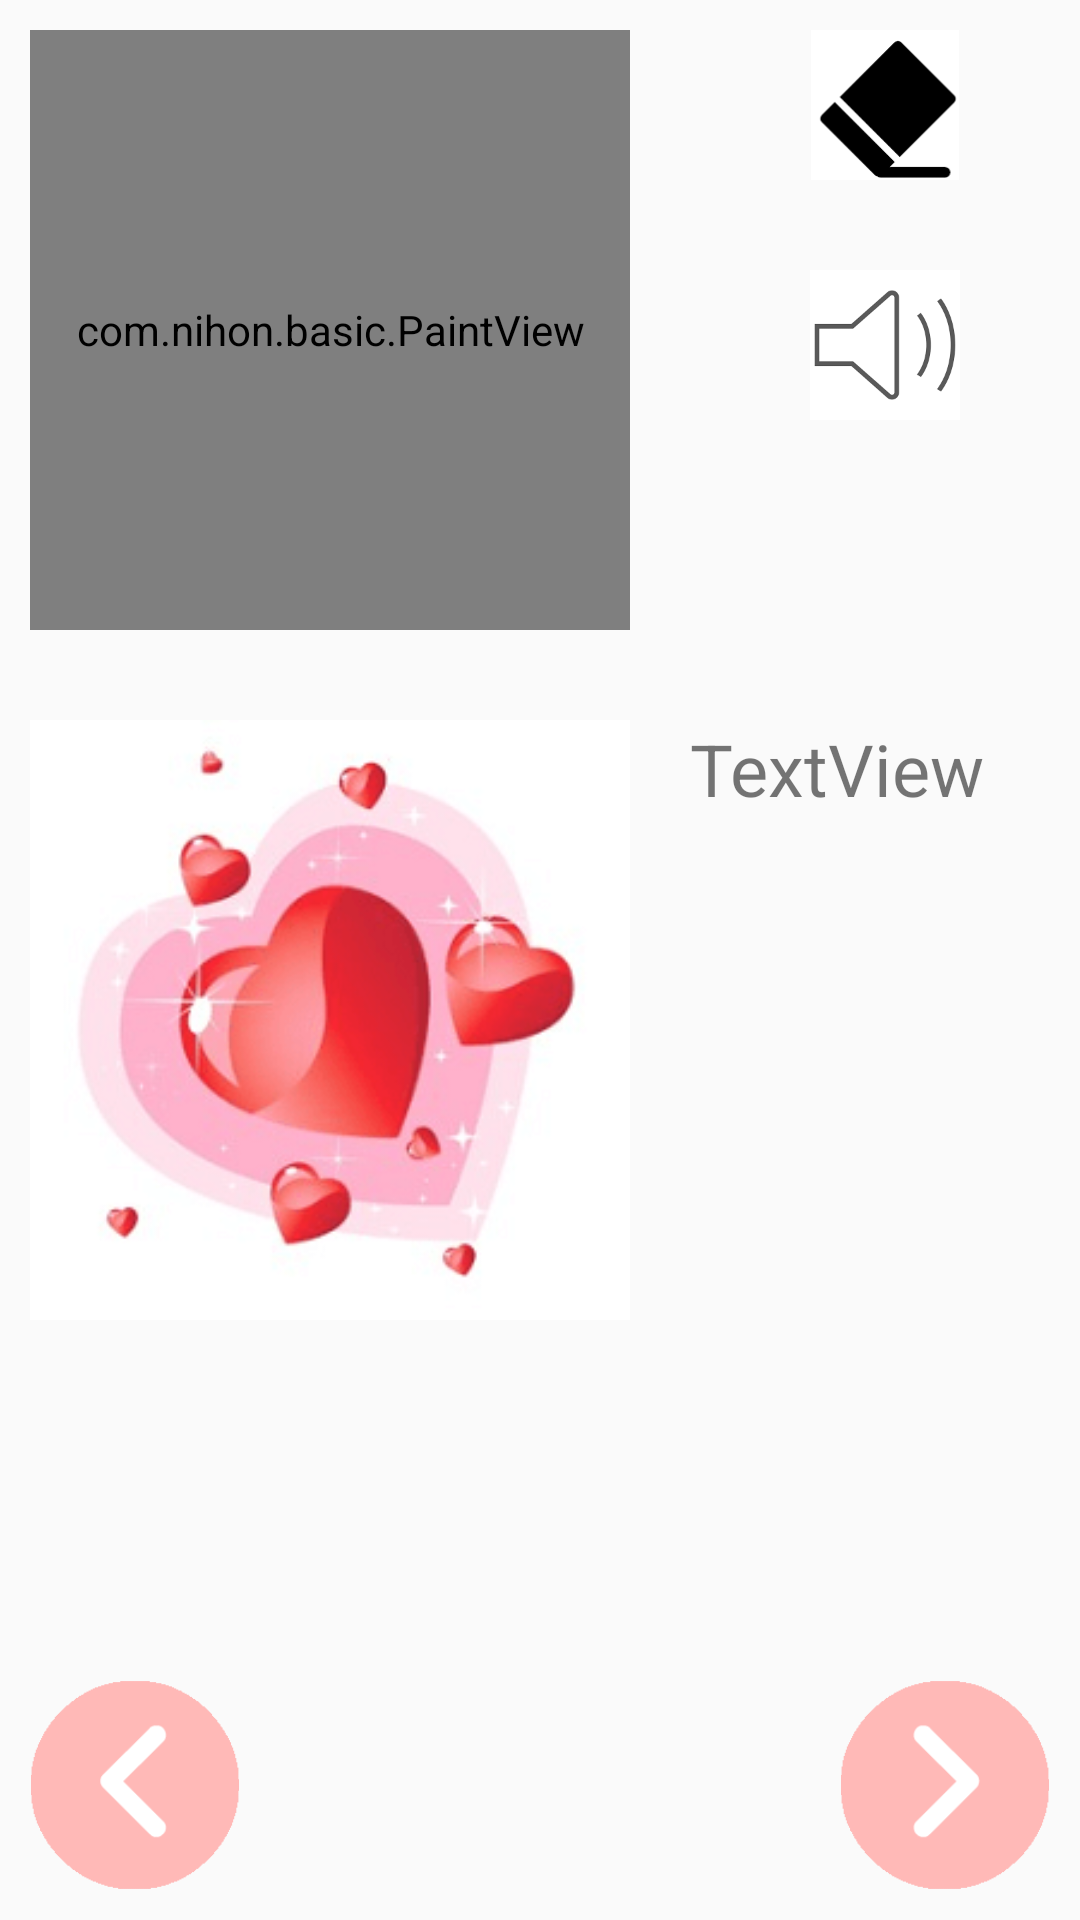

Where icons sit on this 1080px×1920px app screen, as [x1,y1,x2,y2]:
aki next: [841,1681,1049,1889]
aki pre: [31,1681,239,1889]
eraser: [820,41,956,178]
sound: [814,290,956,400]
